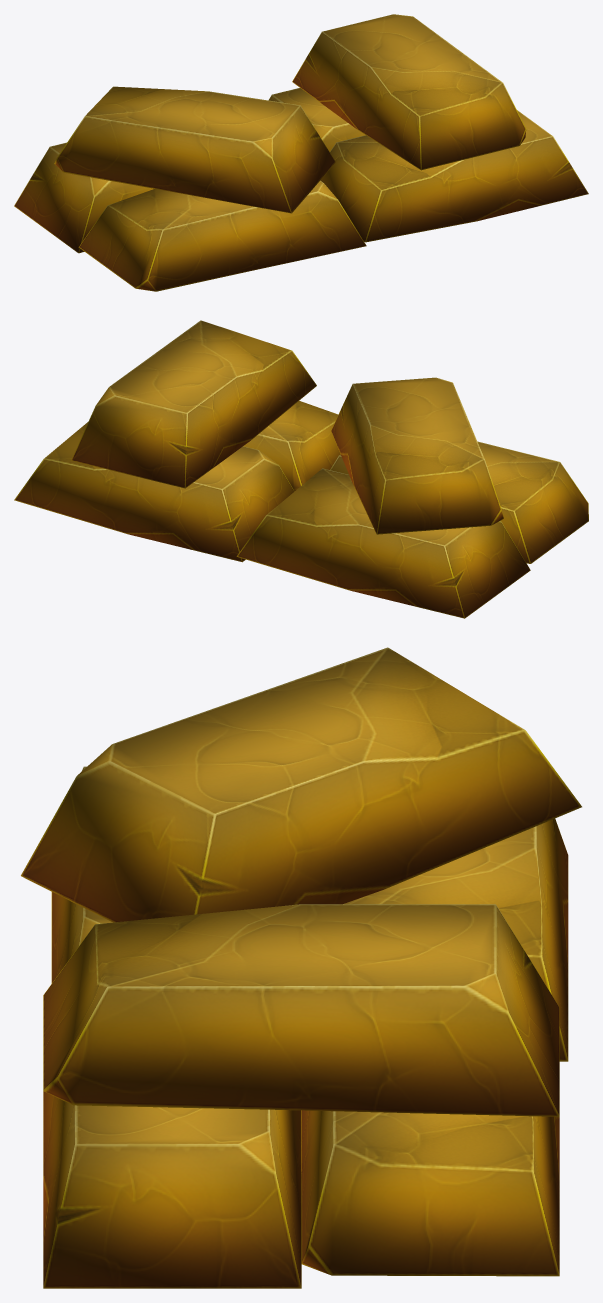
The model's file is Gold-17.fbx.
3 views of the same model, one above another, from view 1: azimuth 30°, elevation 25°; view 2: azimuth 150°, elevation 25°; view 3: azimuth 270°, elevation 25° (orthographic). The views are drawn at different scales.
Visible parts, largest first — view 1: Gold-17; view 2: Gold-17; view 3: Gold-17.
Boxes of the visible parts, x1,y1,x2,y2 form: Gold-17: (14,14,588,291); Gold-17: (14,320,588,618); Gold-17: (21,647,581,1288).
Size of the model in its own units: 0.2975 by 0.075 by 0.1631.
Materials: 1 (1 with a texture image).
